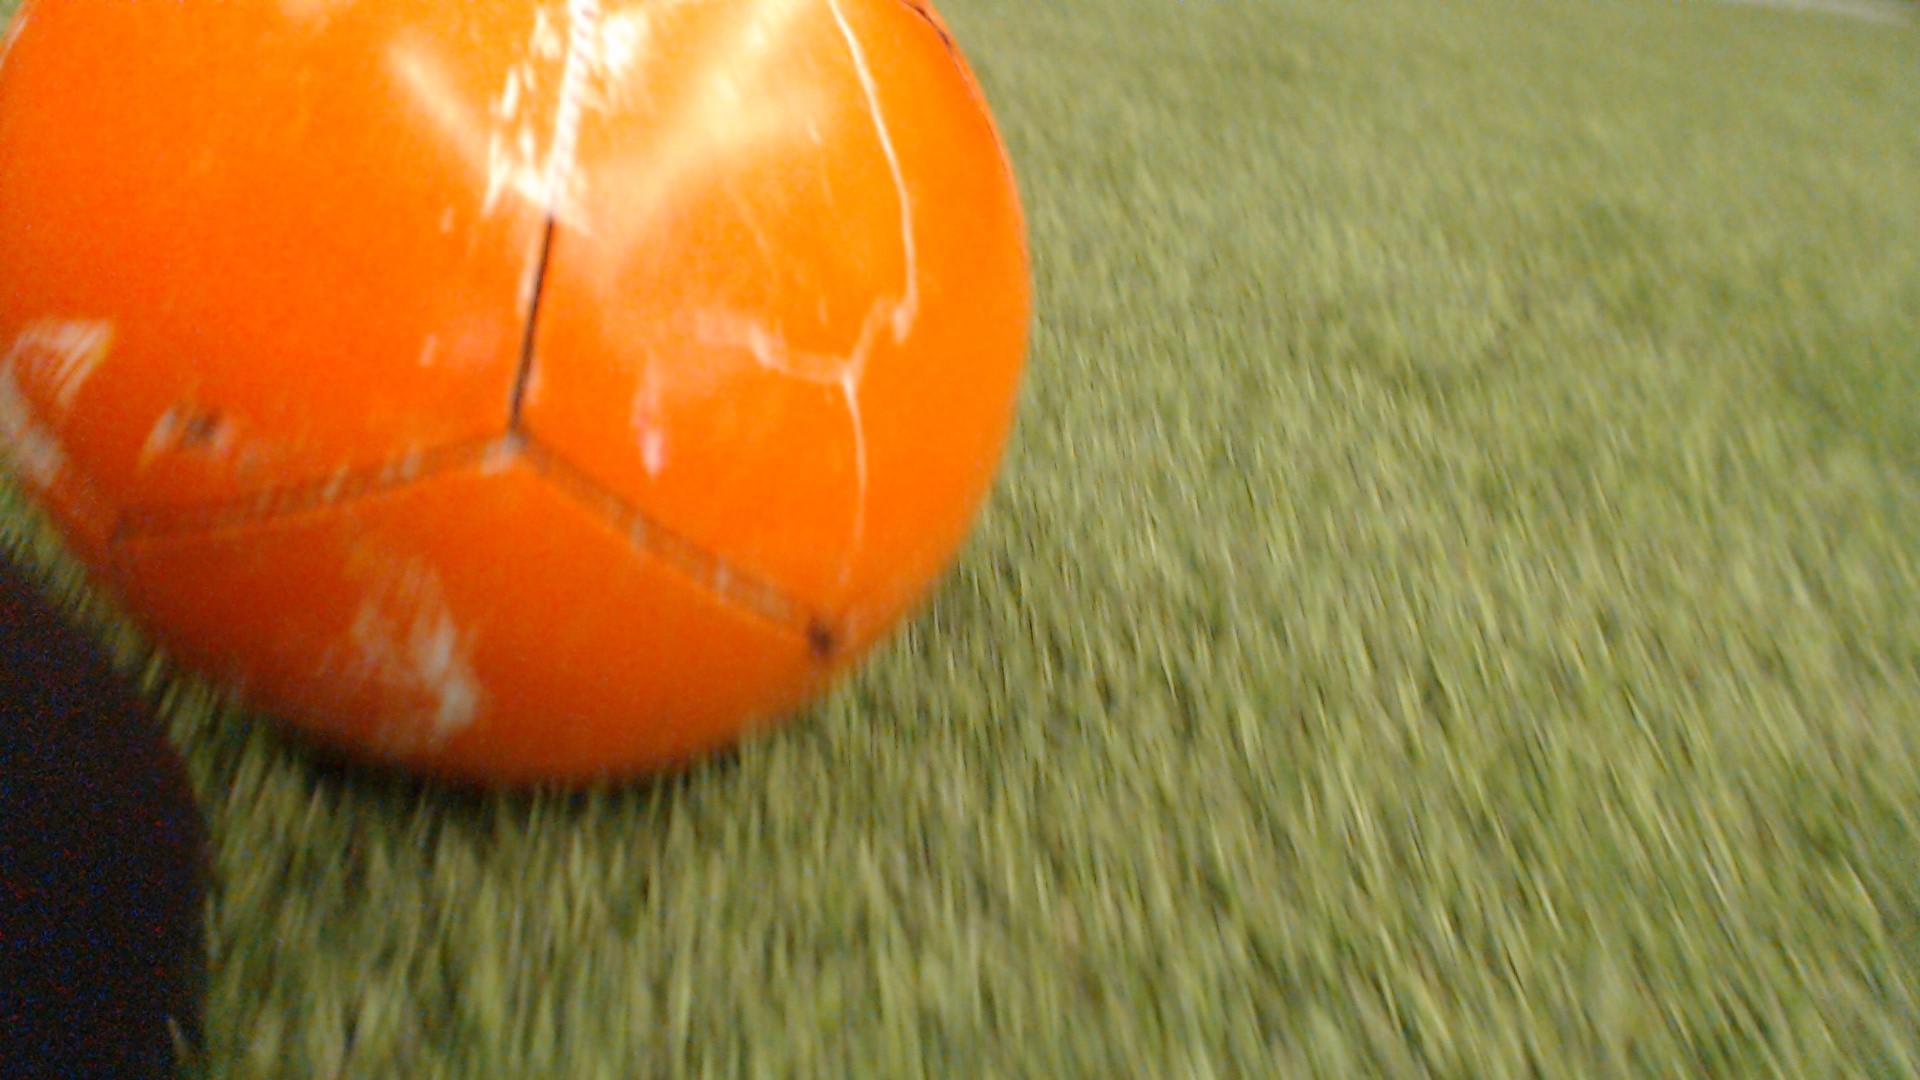bola: (0, 0, 1052, 793)
